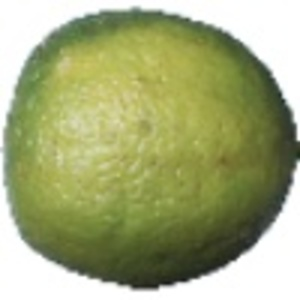limão: (1, 7, 300, 289)
